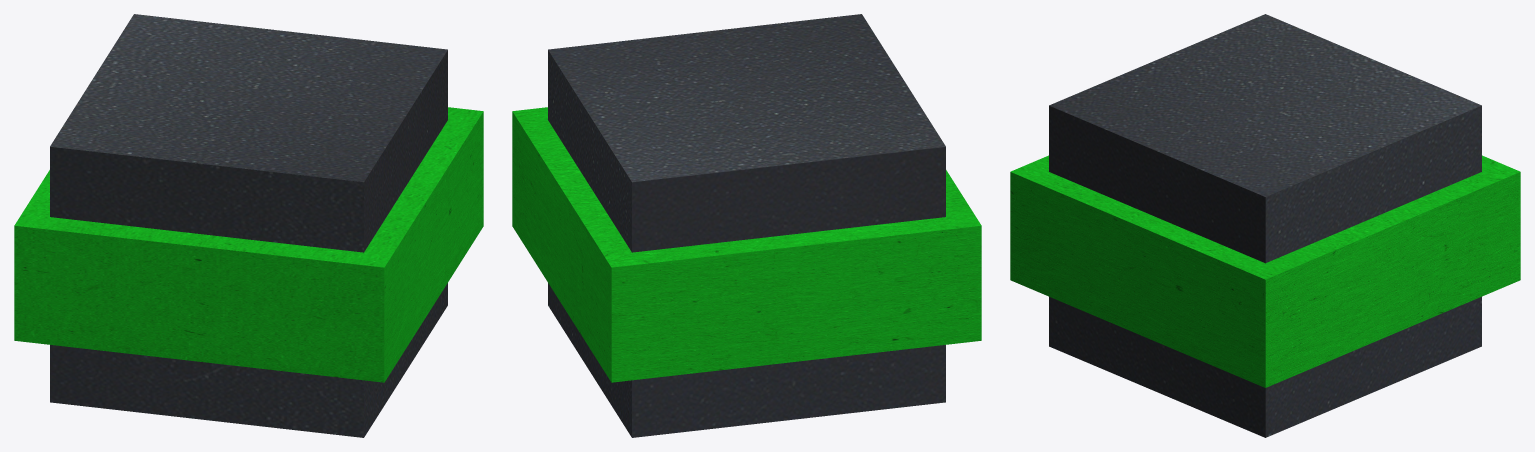
The model's file is CubeBumpN2S.obj.
3 views of the same model, side by side, from view 1: azimuth 30°, elevation 25°; view 2: azimuth 150°, elevation 25°; view 3: azimuth 270°, elevation 25° (orthographic). The views are drawn at different scales.
Visible parts, largest first — view 1: CubeBumper_Cube.043, CubeBumper.002_Cube.044; view 2: CubeBumper_Cube.043, CubeBumper.002_Cube.044; view 3: CubeBumper_Cube.043, CubeBumper.002_Cube.044.
Boxes of the visible parts, <box> form: CubeBumper_Cube.043: <box>50,14,447,437</box>; CubeBumper.002_Cube.044: <box>14,107,483,382</box>; CubeBumper_Cube.043: <box>548,14,945,437</box>; CubeBumper.002_Cube.044: <box>512,107,981,382</box>; CubeBumper_Cube.043: <box>1049,14,1481,437</box>; CubeBumper.002_Cube.044: <box>1010,155,1520,387</box>.
Bounding box in the file's own units: 0.9605 × 0.5 × 0.9605.
